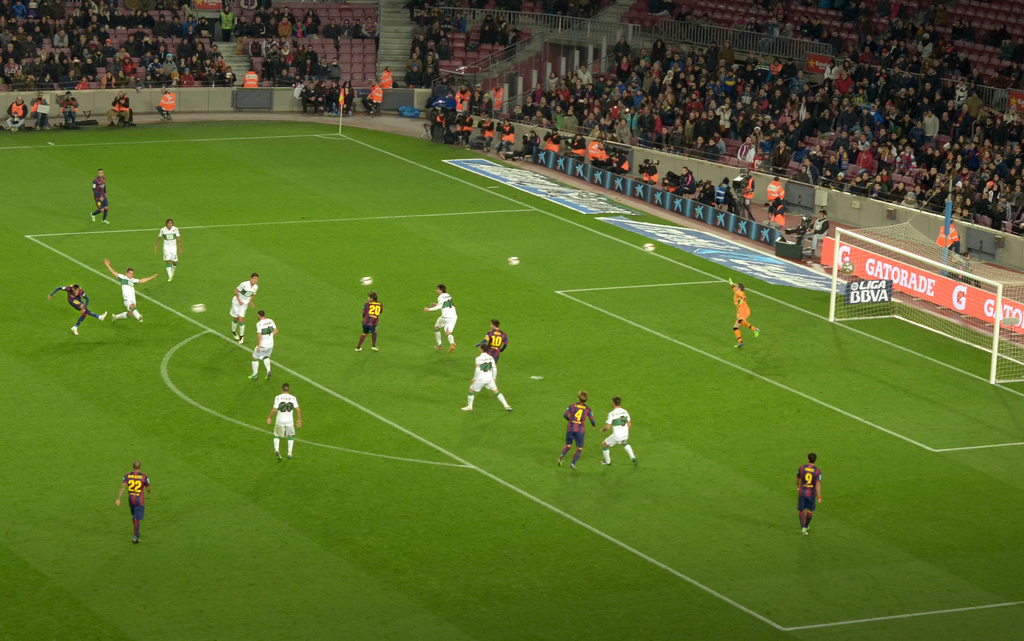Person: (0, 0, 1024, 544)
